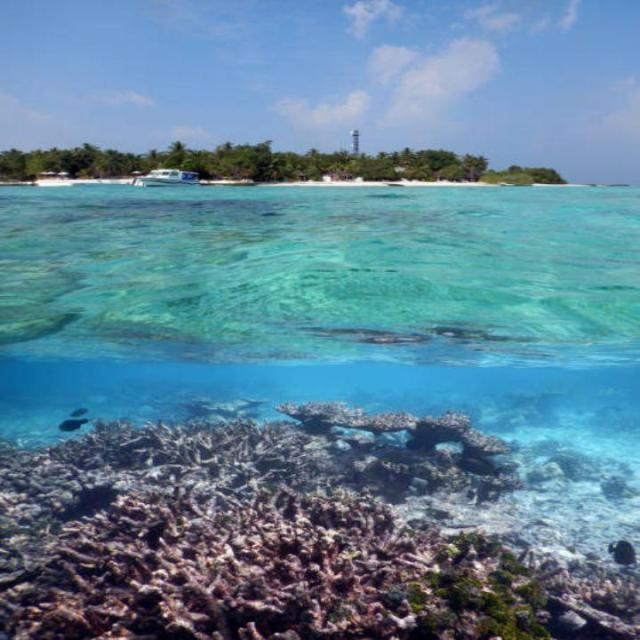Dead Coral: (28, 451, 597, 640), (0, 399, 503, 518)
